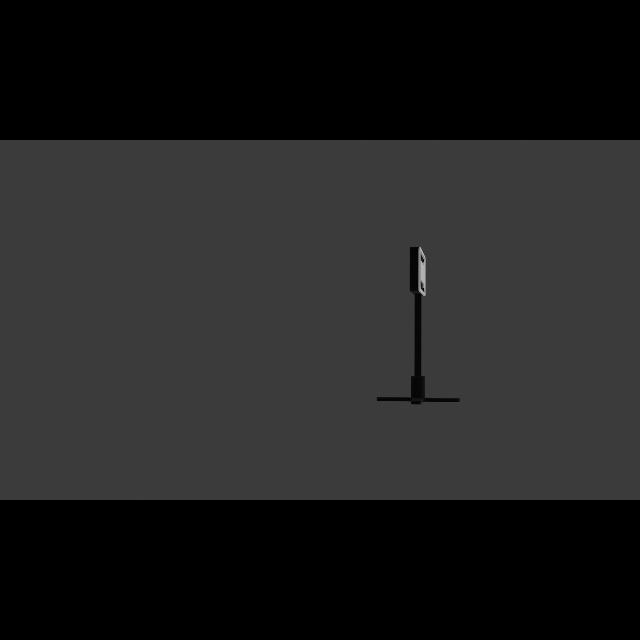sign_oneway_right: (411, 247, 431, 299)
